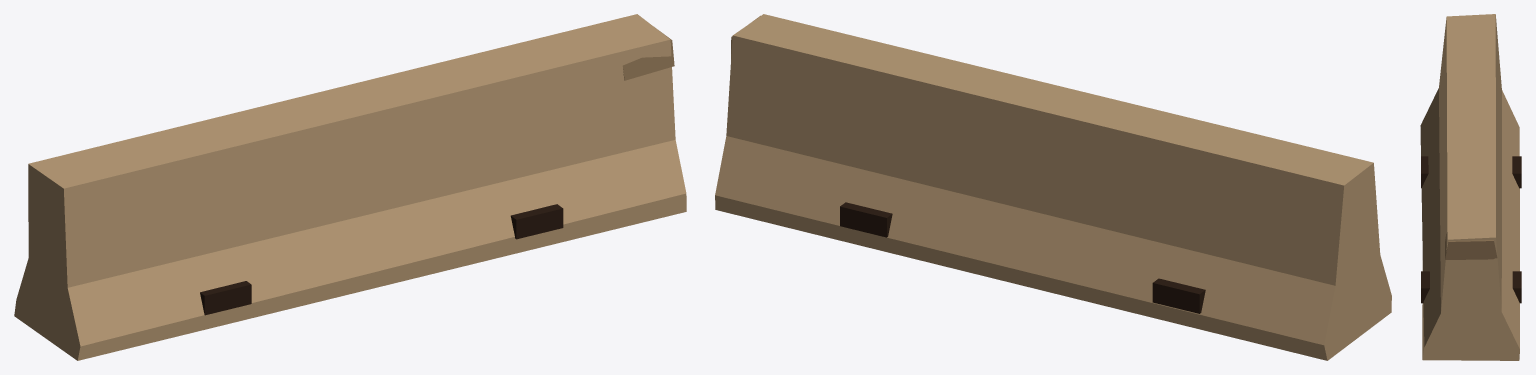
Rendered from barrier.glb.
3 views of the same model, side by side, from view 1: azimuth 30°, elevation 25°; view 2: azimuth 150°, elevation 25°; view 3: azimuth 270°, elevation 25° (orthographic). The views are drawn at different scales.
Parts seen in each view (by area): view 1: barrier; view 2: barrier; view 3: barrier.
Boxes of the visible parts, x1,y1,x2,y2 form: barrier: [14, 14, 686, 360]; barrier: [715, 14, 1391, 360]; barrier: [1420, 14, 1521, 360].
Size of the model in its own units: 3.93 by 1.01 by 0.7441.
